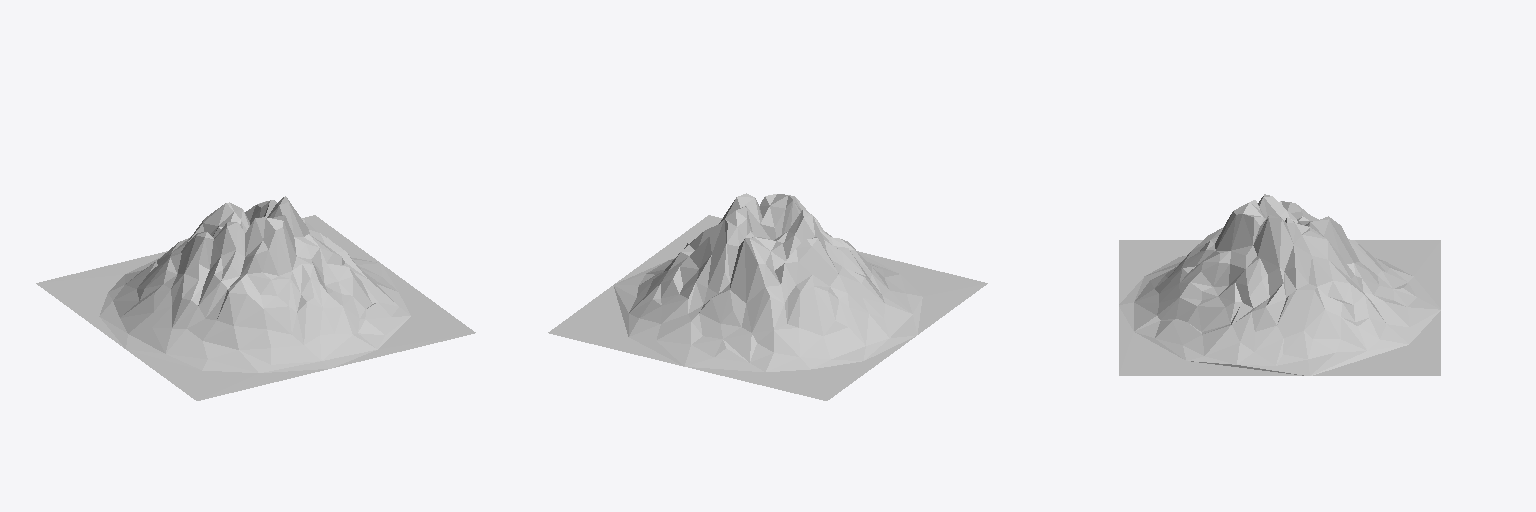
The model's file is volcano4.obj.
3 views of the same model, side by side, from view 1: azimuth 30°, elevation 25°; view 2: azimuth 150°, elevation 25°; view 3: azimuth 270°, elevation 25° (orthographic).
Parts seen in each view (by area): view 1: Landscape; view 2: Landscape; view 3: Landscape.
Boxes of the visible parts, x1=… form: Landscape: x1=36, y1=196, x2=475, y2=400; Landscape: x1=548, y1=193, x2=987, y2=400; Landscape: x1=1119, y1=194, x2=1440, y2=375.
Size of the model in its own units: 2 by 0.7153 by 2.